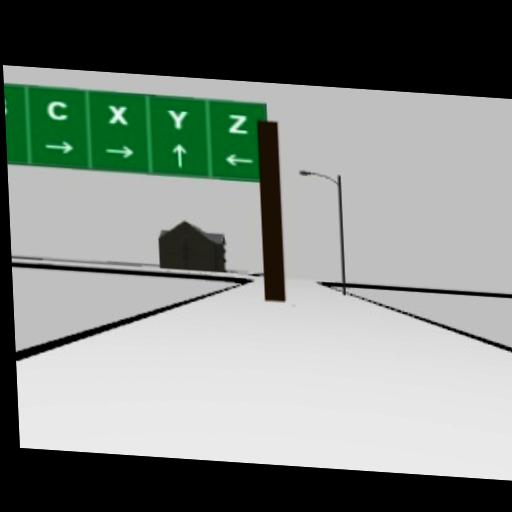C: (46, 96, 67, 121)
Left: (224, 151, 255, 166)
Right: (104, 143, 135, 158), (48, 139, 73, 154)
Straight: (171, 141, 188, 168)
X: (108, 101, 128, 126)
Y: (167, 108, 189, 129)
Z: (227, 112, 249, 135), (226, 112, 248, 133)
